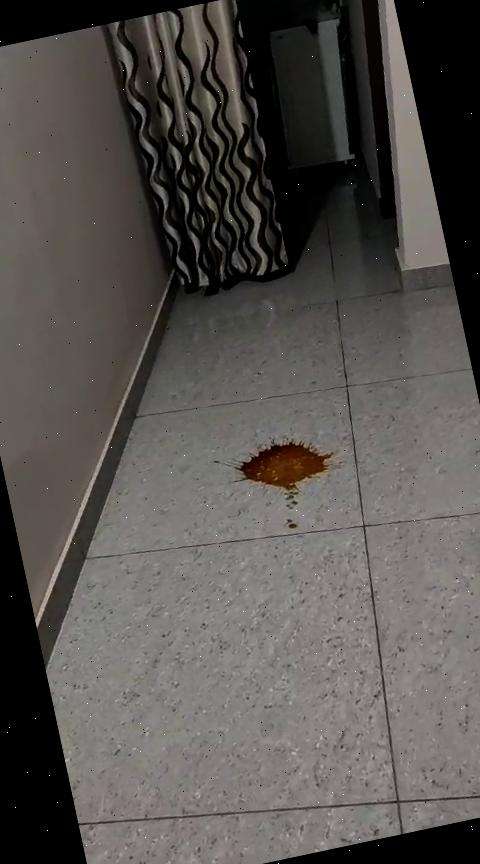dirty_floor: (206, 420, 356, 542)
